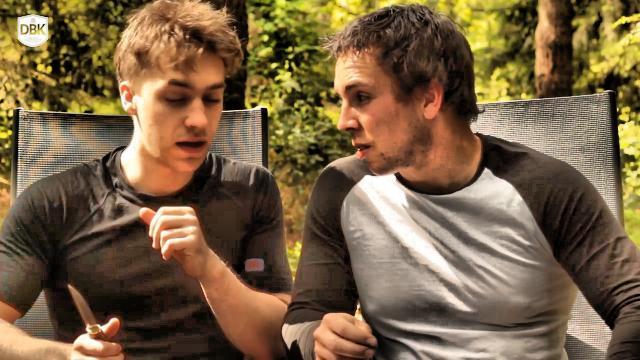knife: (54, 274, 130, 360)
